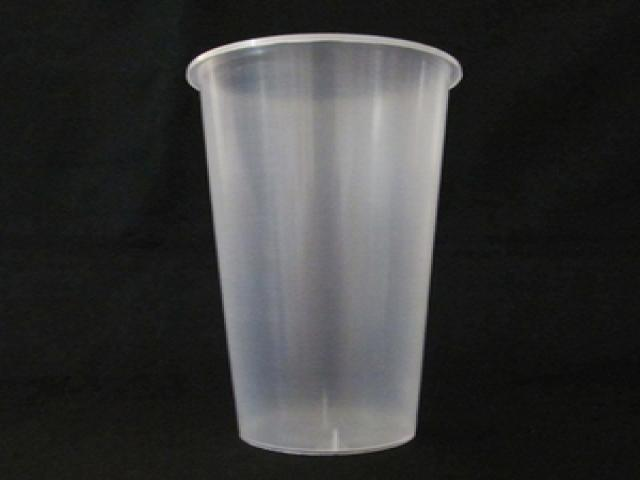cup: (186, 34, 462, 454)
